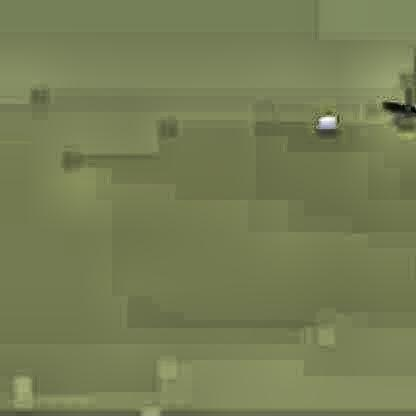golfball: (314, 113, 334, 131)
